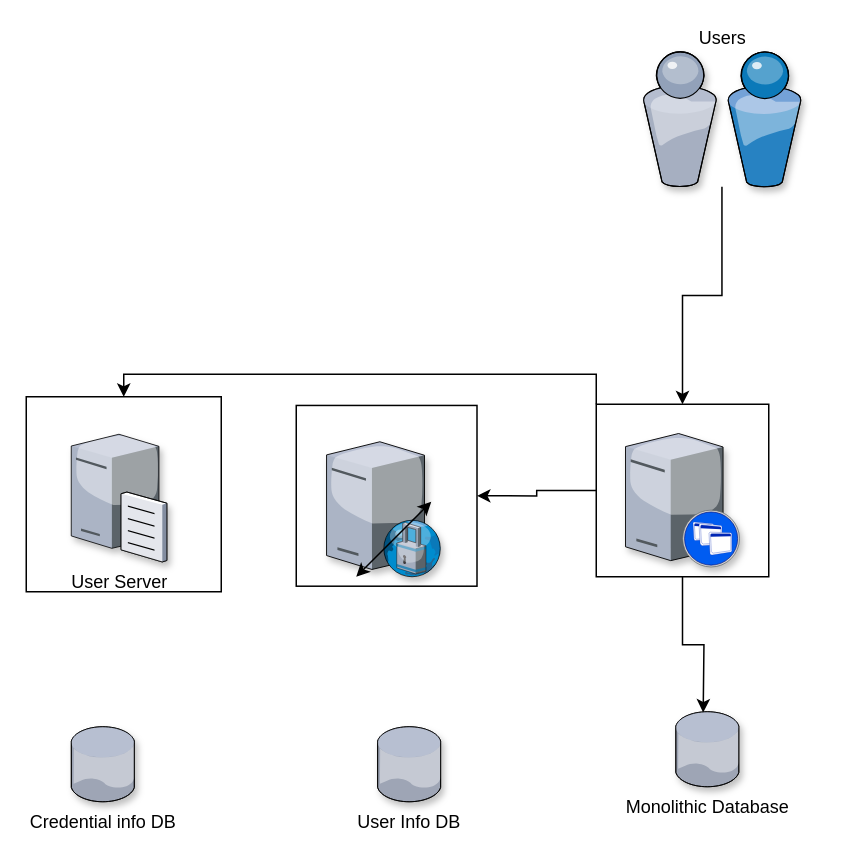
The diagram is 848 pixels wide and 858 high, and some of its shapes have lost their labels. Here are the shapes that lost their labels. From the top down, the centre of each, then its label:
point (385, 510): Auth Server
point (683, 502): Store App
